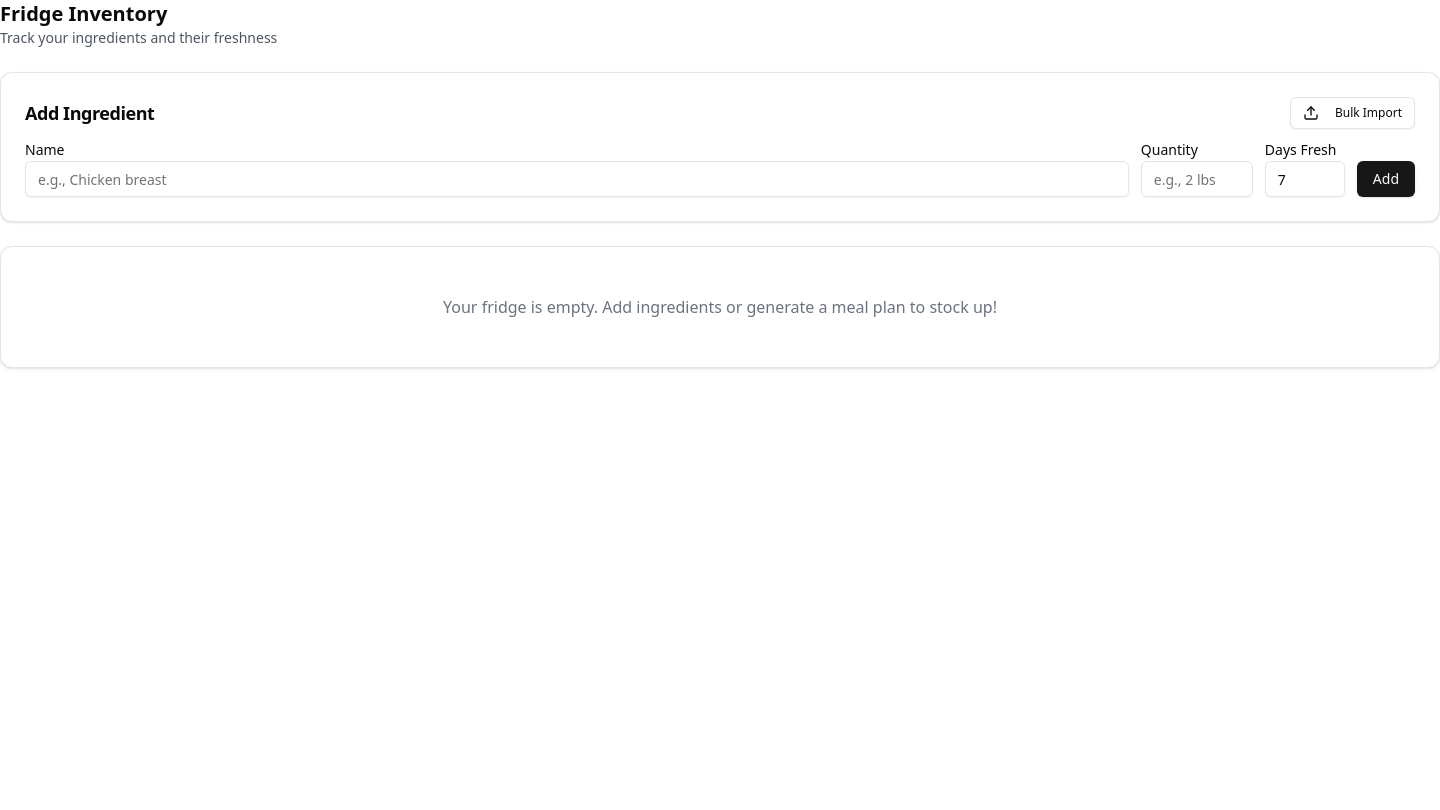
Test case: FridgeView › bulk import › should open bulk import dialog when button is clicked
Click the button with aria-label "open bulk import dialog".
click(1352, 113)  # box [1290,97,1415,129]
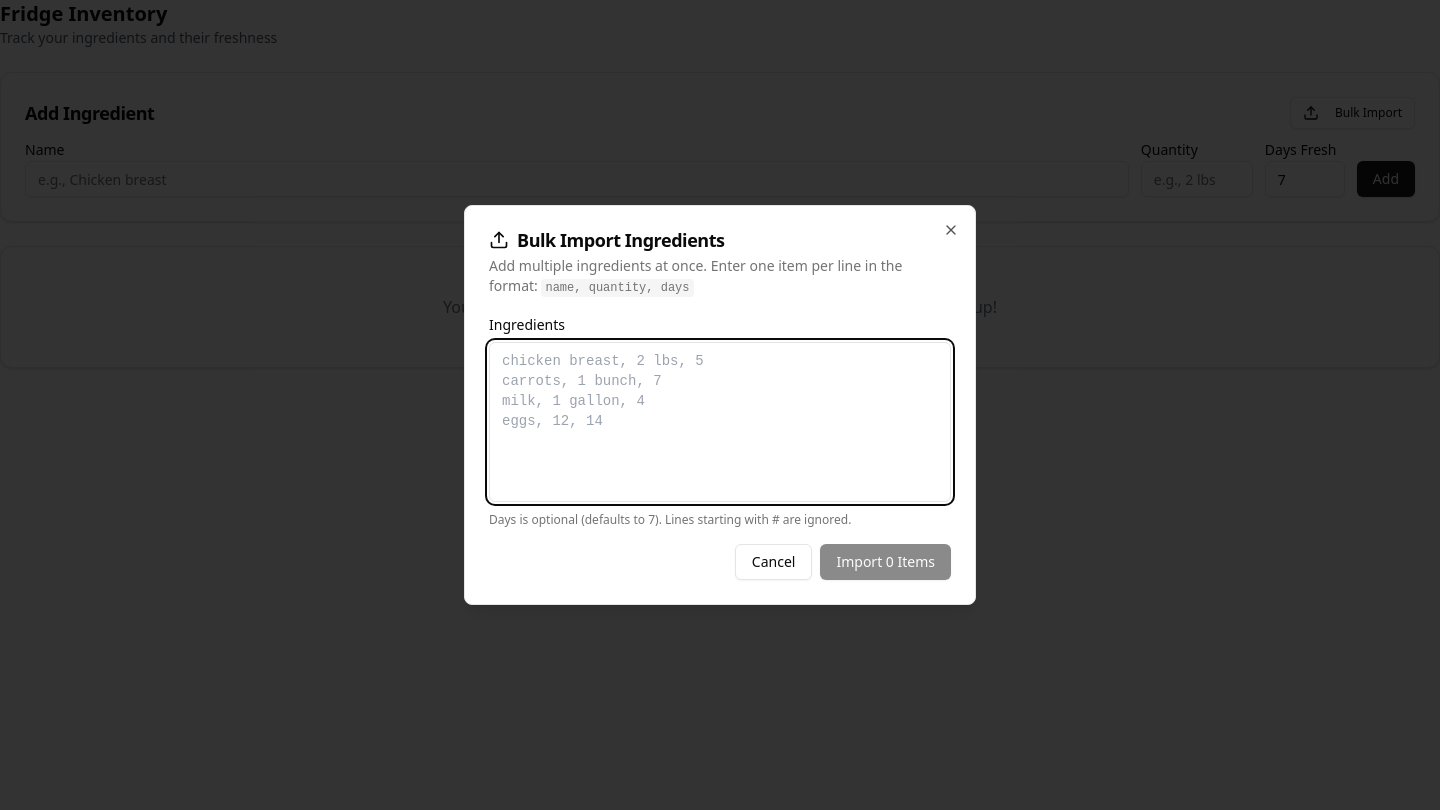
Expected: the dialog is shown, [464,205,976,605]
Expected: the heading "Bulk Import Ingredients" is shown, [489,228,725,252]
